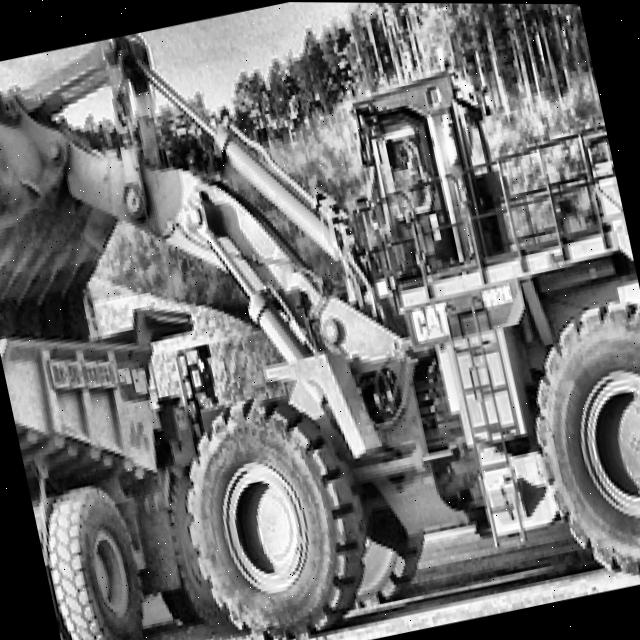buldozerpayloadergrader: (0, 0, 640, 640)
dump_truck: (0, 290, 257, 640)
